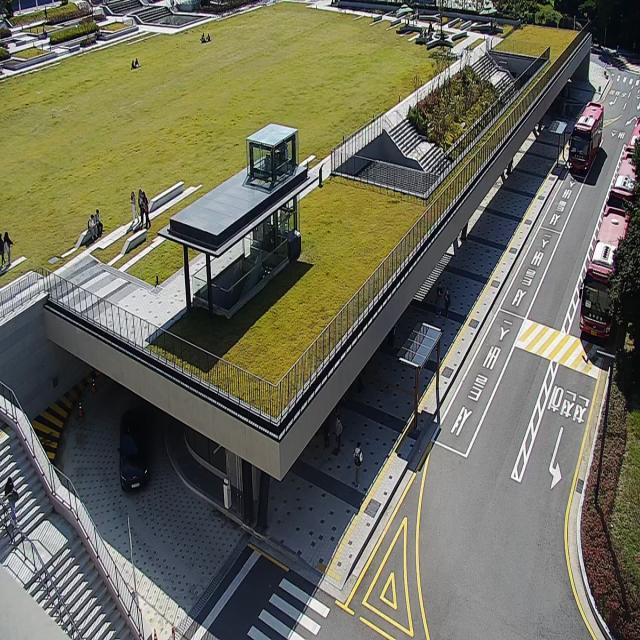queue: (412, 328, 440, 436)
